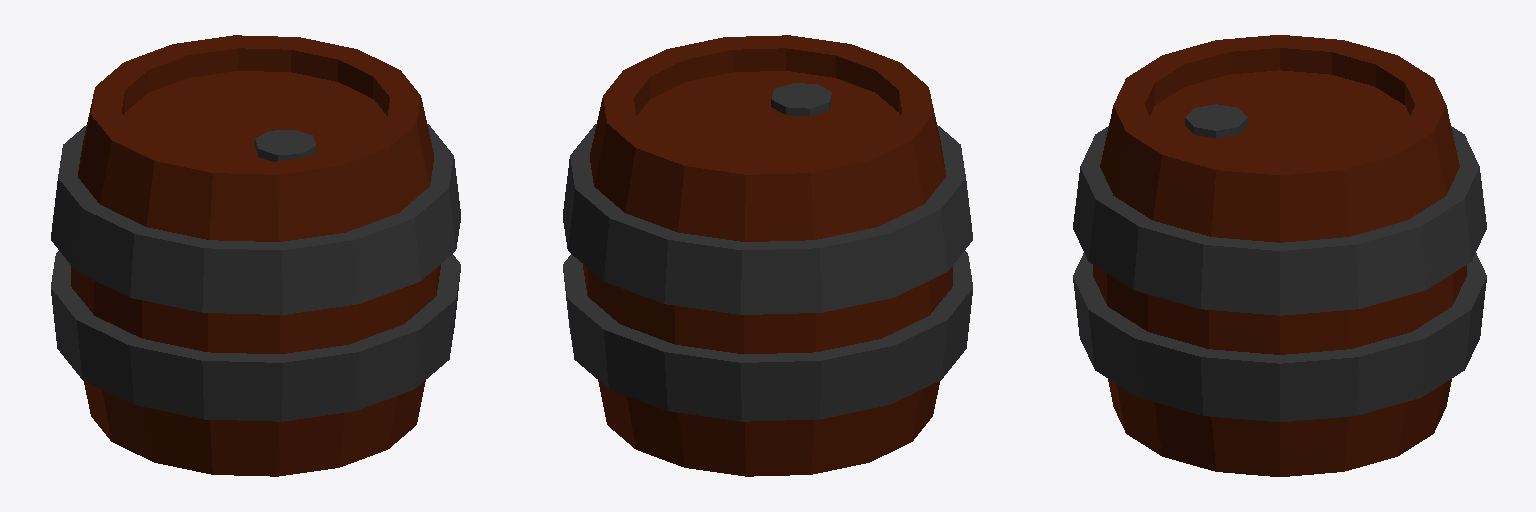
Rendered from oil_barrel.obj.
3 renders of one model, left to right at view 1: azimuth 30°, elevation 25°; view 2: azimuth 150°, elevation 25°; view 3: azimuth 270°, elevation 25°, orthographic.
Visible parts, largest first — view 1: Cylinder.009, Cylinder.008; view 2: Cylinder.009, Cylinder.008; view 3: Cylinder.009, Cylinder.008.
Part boxes in pixels (x1,y1,x2,y2): Cylinder.009: (51, 35, 460, 476); Cylinder.008: (255, 129, 315, 161); Cylinder.009: (563, 35, 972, 476); Cylinder.008: (771, 83, 831, 116); Cylinder.009: (1073, 35, 1486, 476); Cylinder.008: (1185, 104, 1247, 138).
Size of the model in its own units: 2.49 by 2 by 2.49.